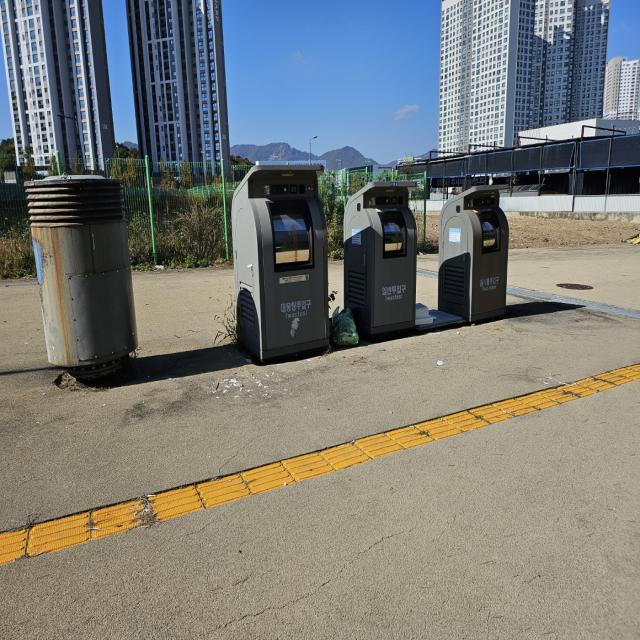CleanNet: (232, 157, 328, 360), (343, 175, 419, 339), (436, 187, 511, 318)
General Waste: (328, 303, 369, 360)
